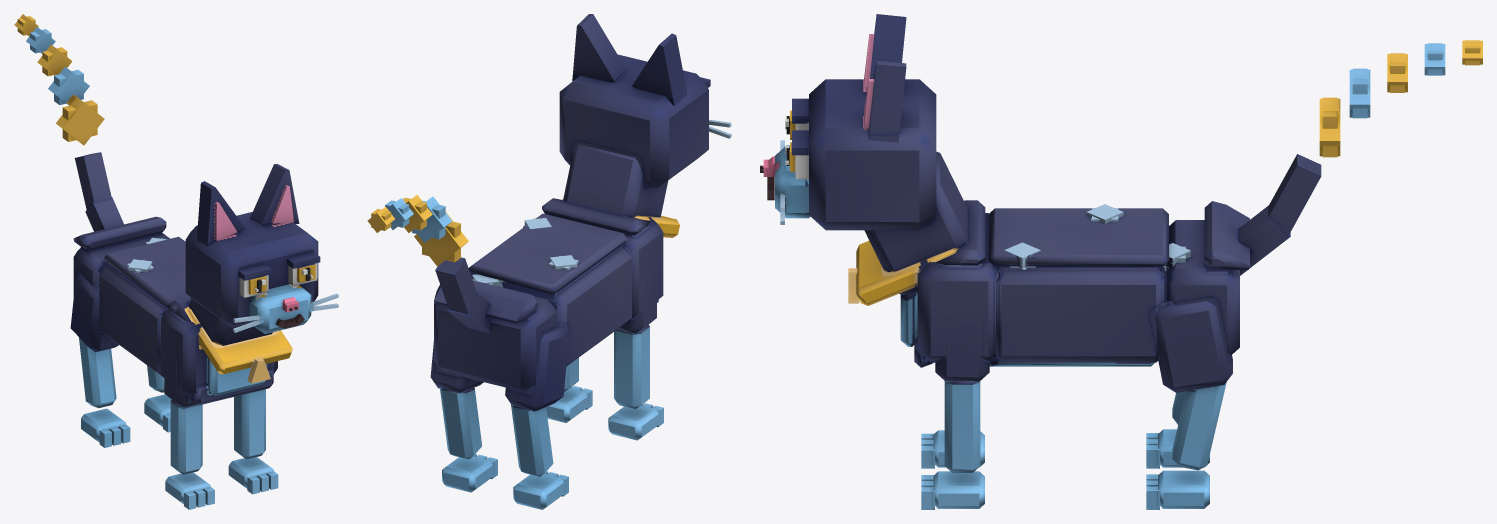
File: ChatComete_Rig.fbx
The picture shows the model from 3 angles, left to right: view 1: azimuth 30°, elevation 25°; view 2: azimuth 150°, elevation 25°; view 3: azimuth 270°, elevation 25°; orthographic projection. The views are drawn at different scales.
Parts seen in each view (by area): view 1: Body, Head, Tail, LegBR, LegFR, LegFL, EarL, EarR, LegBL; view 2: Body, Head, LegBR, Tail, LegFR, LegBL, EarL, EarR, LegFL; view 3: Body, Head, LegBL, Tail, LegFL, EarL, EarR, LegBR, LegFR.
Boxes of the visible parts, <box> form: Body: <box>73,216,292,405</box>; Head: <box>185,212,338,333</box>; Tail: <box>14,14,123,231</box>; LegBR: <box>70,274,130,447</box>; LegFR: <box>164,351,214,509</box>; LegFL: <box>228,389,278,494</box>; EarL: <box>250,164,299,224</box>; EarR: <box>196,181,245,246</box>; LegBL: <box>144,365,171,432</box>; Body: <box>434,144,679,390</box>; Head: <box>559,54,731,188</box>; LegBR: <box>505,323,569,509</box>; Tail: <box>367,194,491,333</box>; LegFR: <box>608,271,663,440</box>; LegBL: <box>430,342,497,492</box>; EarL: <box>572,14,626,82</box>; EarR: <box>632,33,687,105</box>; LegFL: <box>546,357,592,422</box>; Body: <box>848,151,1249,367</box>; Head: <box>760,79,936,230</box>; LegBL: <box>1146,300,1232,509</box>; Tail: <box>1238,40,1482,275</box>; LegFL: <box>921,321,989,509</box>; EarL: <box>864,61,906,142</box>; EarR: <box>864,14,906,87</box>; LegBR: <box>1146,391,1209,468</box>; LegFR: <box>921,430,984,468</box>.
Size of the model in its own units: 1.96 by 6 by 8.88.
1 material, 1 textured.
